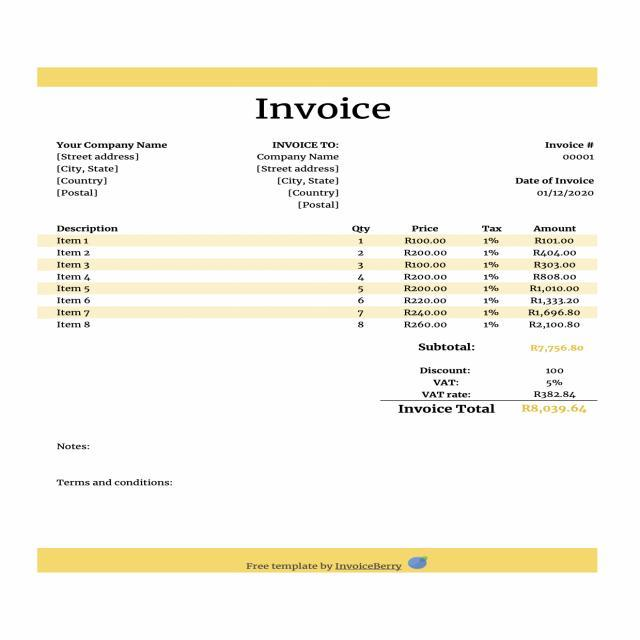customer_address: (254, 165, 344, 199), (55, 153, 142, 187)
customer_name: (254, 152, 344, 164)
invoice_date: (532, 188, 598, 199)
invoice_number: (555, 150, 598, 165)
invoice_subtotal: (526, 341, 587, 358)
invoice_total: (521, 402, 588, 418)
item_description: (50, 235, 104, 335)
item_quantity: (344, 236, 378, 332)
item_total_price: (526, 238, 584, 336)
item_unit_price: (398, 238, 458, 334)
supplier_name: (53, 139, 172, 152)
tax_amount: (532, 388, 583, 402)
tax_rate: (537, 378, 573, 388)
